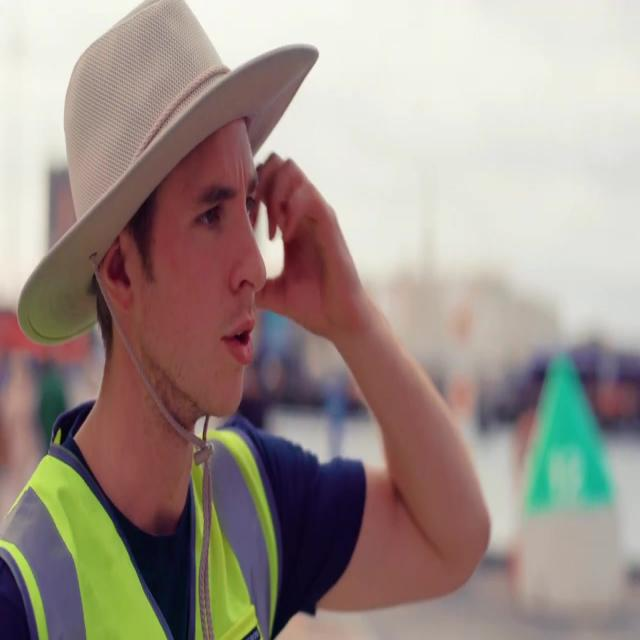Reflective-Jacket: (1, 405, 292, 640)
